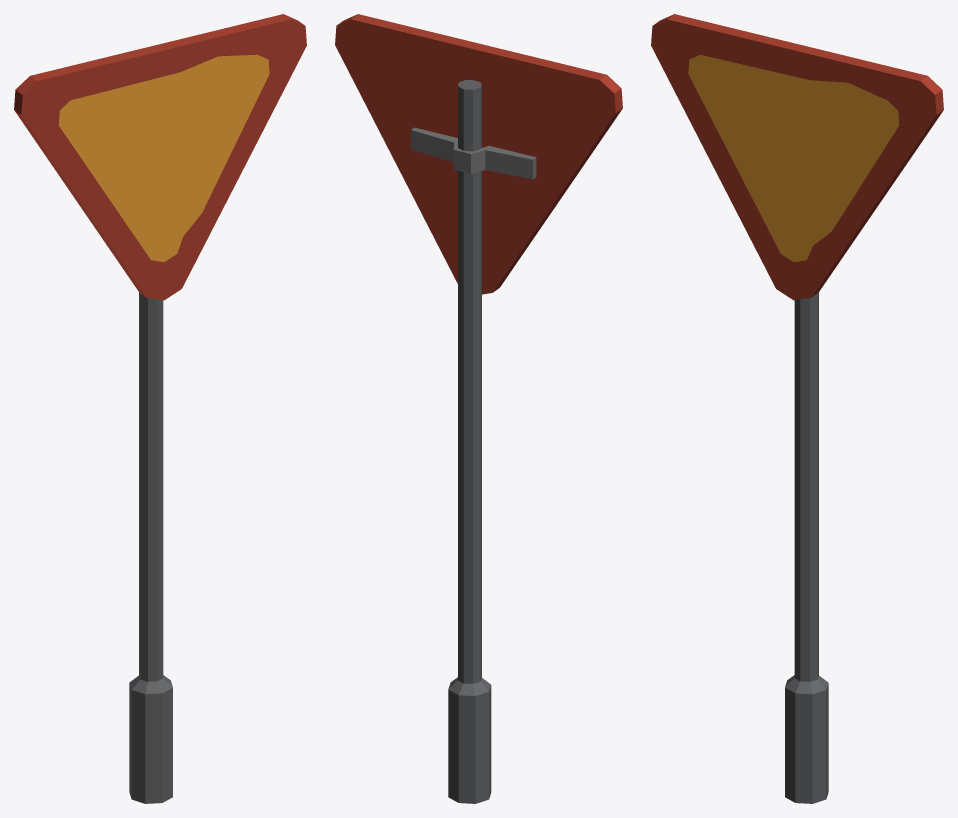
The model's file is SM_Prop_Sign_GiveWay_02.fbx.
The picture shows the model from 3 angles, left to right: view 1: azimuth 30°, elevation 25°; view 2: azimuth 150°, elevation 25°; view 3: azimuth 330°, elevation 25°; orthographic projection.
Visible parts, largest first — view 1: SM_Prop_Sign_GiveWay_02; view 2: SM_Prop_Sign_GiveWay_02; view 3: SM_Prop_Sign_GiveWay_02.
Boxes of the visible parts, bbox=[...] form: SM_Prop_Sign_GiveWay_02: bbox=[14, 14, 306, 803]; SM_Prop_Sign_GiveWay_02: bbox=[335, 14, 622, 803]; SM_Prop_Sign_GiveWay_02: bbox=[651, 14, 943, 803].
Size of the model in its own units: 86.46 by 218 by 12.74.
